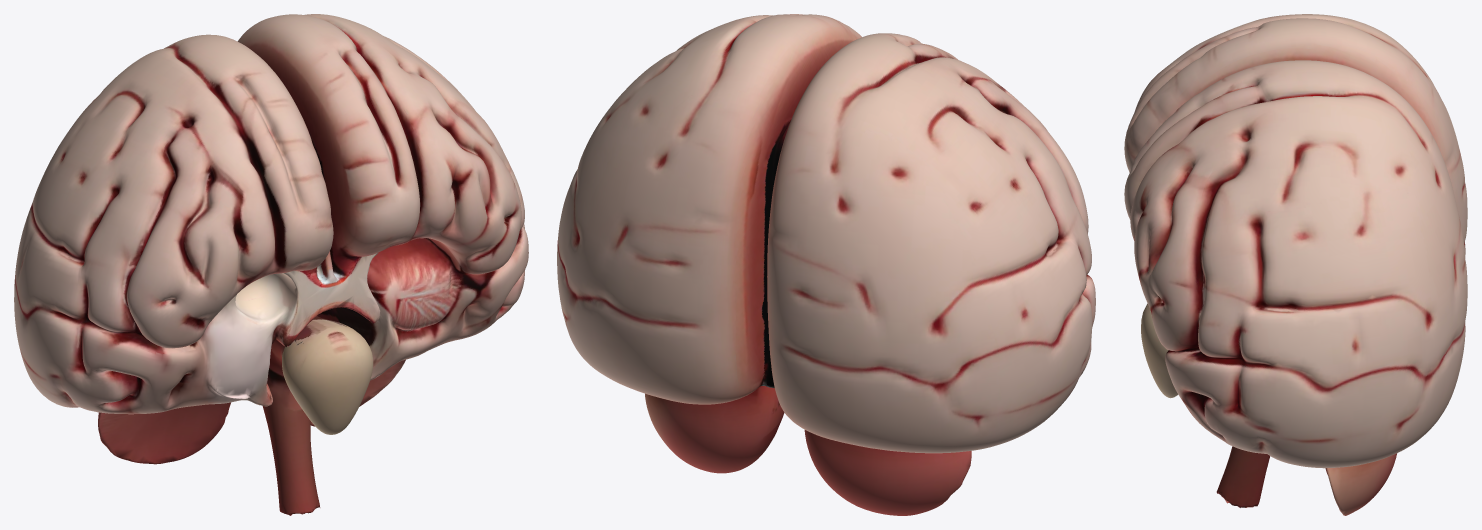
File: vet_v2_organ_dog_brain.glb
The picture shows the model from 3 angles, left to right: view 1: azimuth 30°, elevation 25°; view 2: azimuth 150°, elevation 25°; view 3: azimuth 270°, elevation 25°; orthographic projection. The views are drawn at different scales.
Parts seen in each view (by area): view 1: model; view 2: model; view 3: model.
Part boxes in pixels (x1,y1,x2,y2): model: (14,14,528,515); model: (557,14,1095,515); model: (1124,14,1467,515).
Bounding box in the file's own units: 1.9 × 1.74 × 1.18.
Materials: 1 (1 with a texture image).
